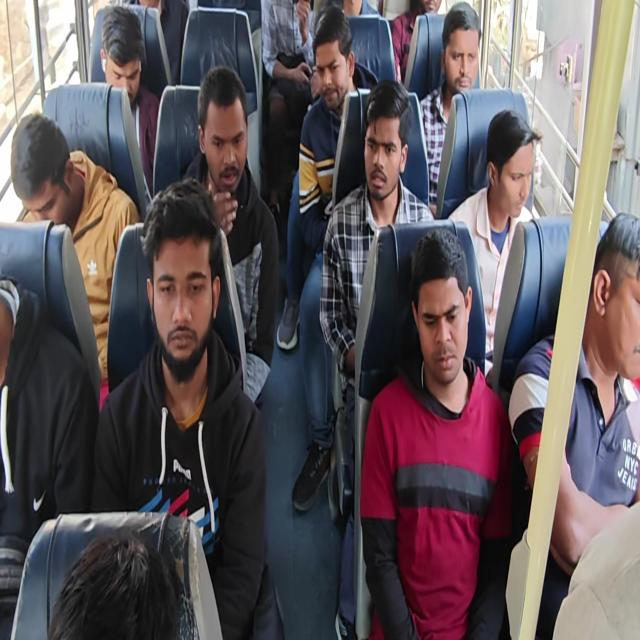person: (50, 518, 198, 640), (132, 224, 220, 365), (583, 216, 640, 386), (413, 264, 477, 386), (484, 115, 549, 223), (14, 125, 82, 228), (194, 78, 245, 191), (363, 99, 403, 196), (100, 26, 145, 100), (446, 12, 487, 91), (316, 30, 346, 105), (419, 0, 443, 16)
